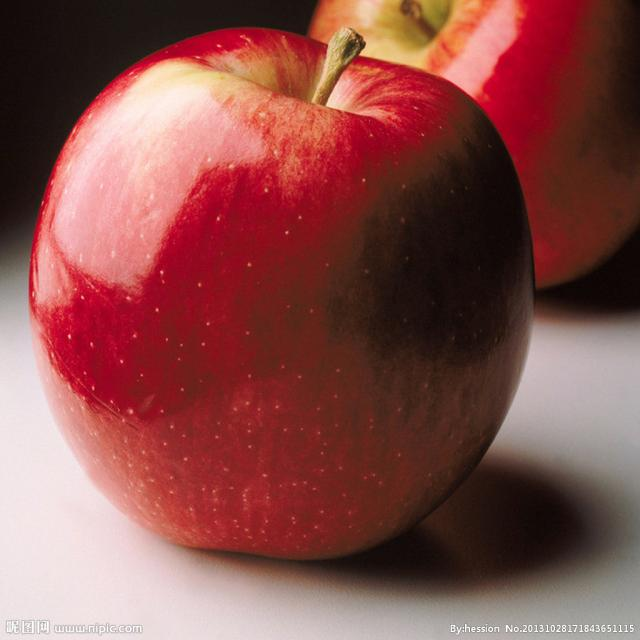apple: (29, 25, 533, 562)
